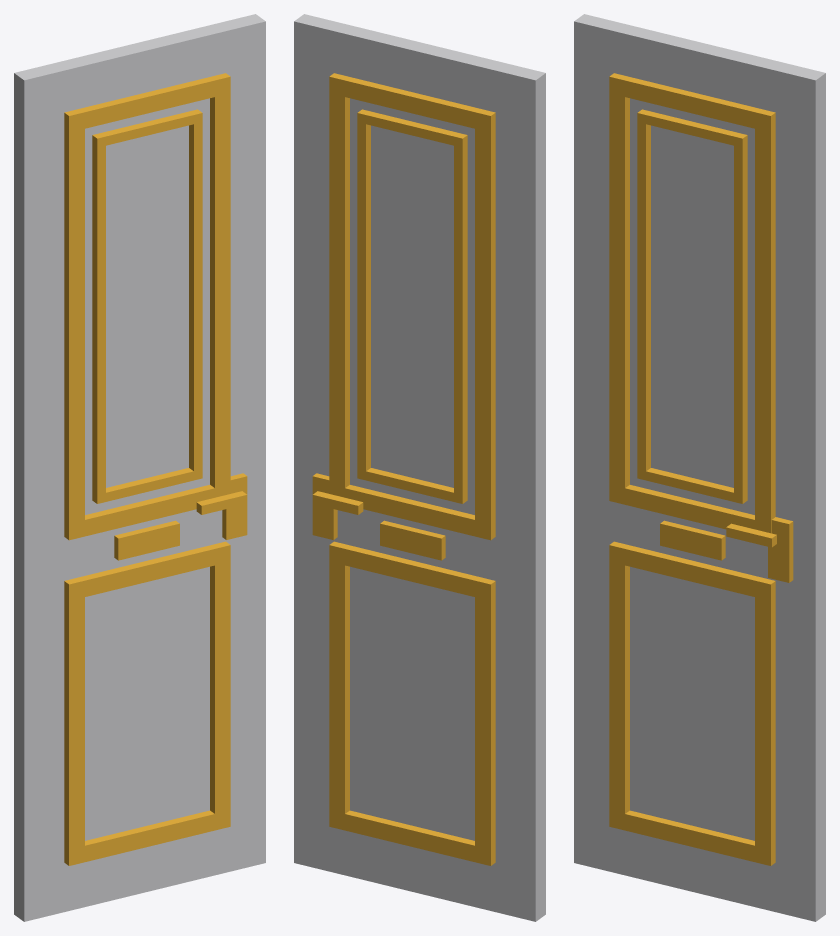
The model's file is SM_Door_obelisk_inner_70x230.fbx.
3 views of the same model, side by side, from view 1: azimuth 30°, elevation 25°; view 2: azimuth 150°, elevation 25°; view 3: azimuth 330°, elevation 25° (orthographic).
Visible parts, largest first — view 1: SM_Door_obelisk_inner_70x230; view 2: SM_Door_obelisk_inner_70x230; view 3: SM_Door_obelisk_inner_70x230.
Boxes of the visible parts, x1,y1,x2,y2 form: SM_Door_obelisk_inner_70x230: (14, 14, 265, 921); SM_Door_obelisk_inner_70x230: (294, 14, 545, 921); SM_Door_obelisk_inner_70x230: (574, 14, 825, 921).
Size of the model in its own units: 0.688 by 2.29 by 0.175.
